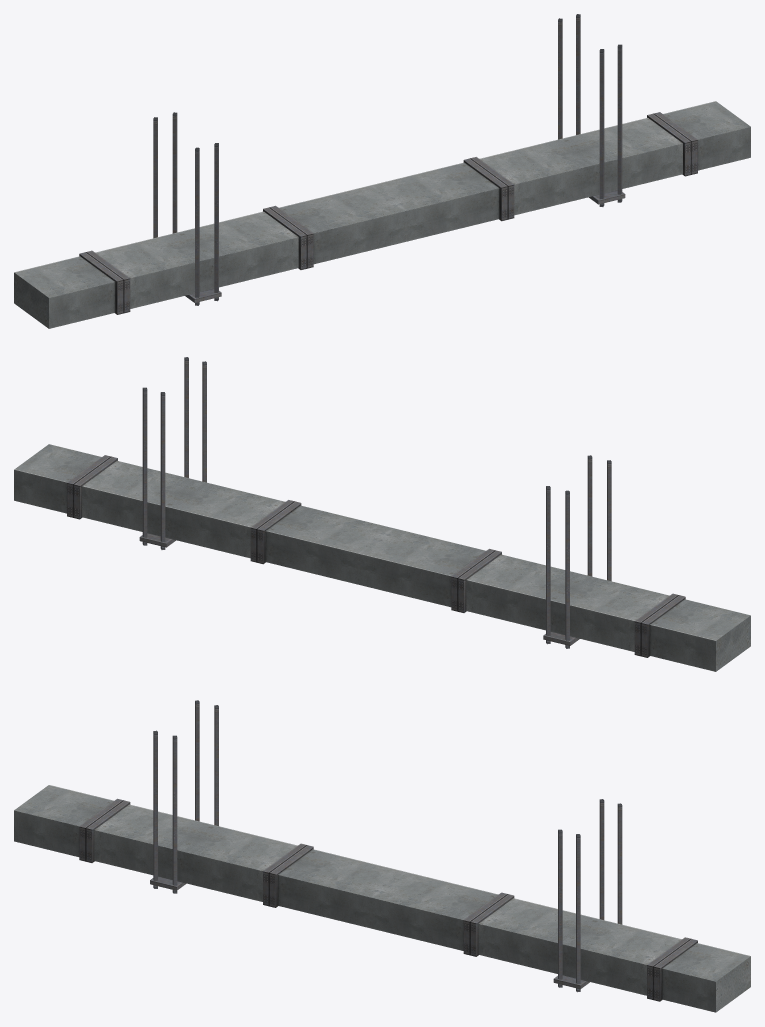
Rendered from Ventilation_pipe_A.FBX.
3 views of the same model, one above another, from view 1: azimuth 30°, elevation 25°; view 2: azimuth 150°, elevation 25°; view 3: azimuth 330°, elevation 25° (orthographic).
Visible parts, largest first — view 1: Ventilation_pipe_A; view 2: Ventilation_pipe_A; view 3: Ventilation_pipe_A.
Part boxes in pixels (bbox=[...]): Ventilation_pipe_A: bbox=[14, 14, 750, 328]; Ventilation_pipe_A: bbox=[14, 357, 750, 671]; Ventilation_pipe_A: bbox=[14, 700, 750, 1012].
Size of the model in its own units: 549 by 60.74 by 117.
Materials: 1 (1 with a texture image).
